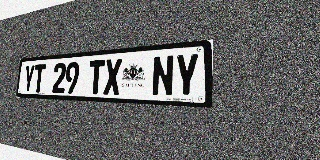2: (52, 62, 66, 93)
9: (65, 61, 80, 94)
N: (151, 55, 174, 97)
T: (88, 60, 105, 94), (33, 64, 46, 93)
X: (103, 58, 122, 95)
Y: (174, 53, 199, 97), (23, 65, 35, 92)
